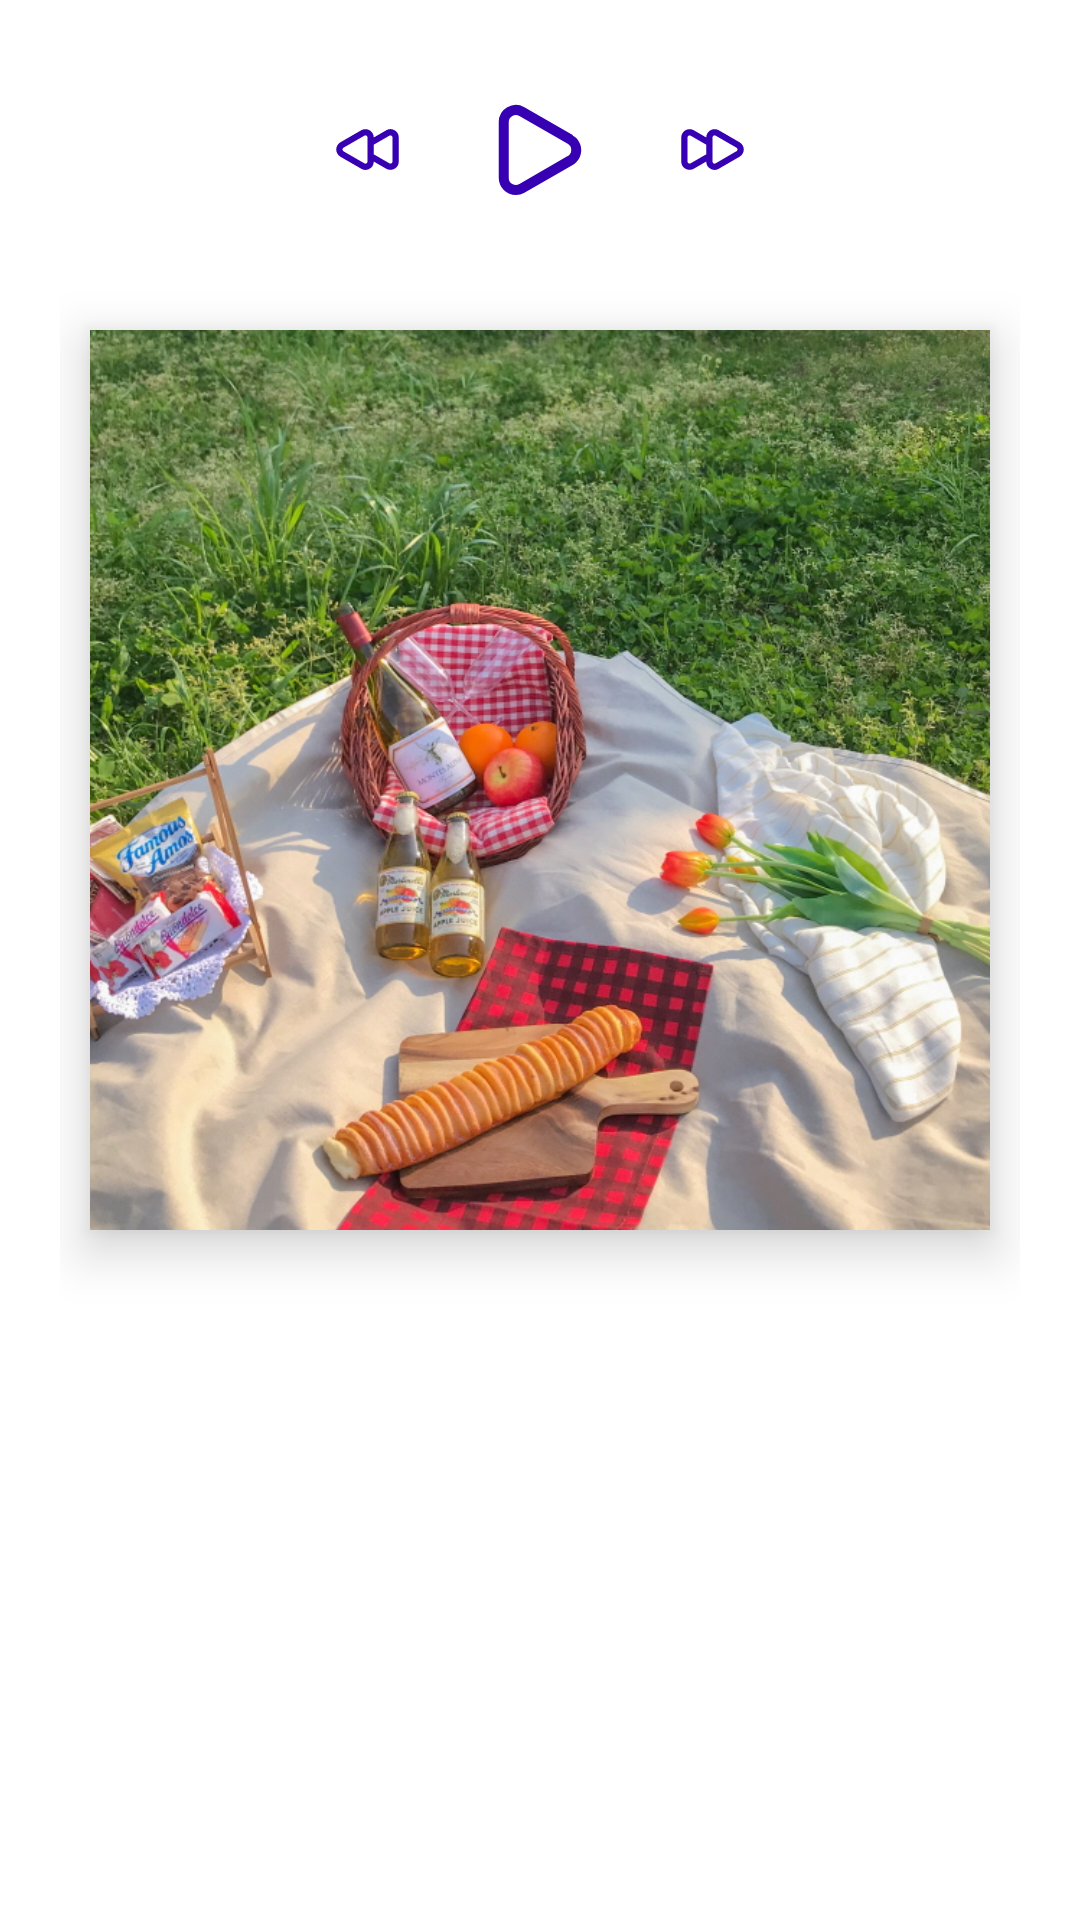

Where to tap for icons on this 1080px x 1920px app screen, as (x,y):
backward: (367,149)
forward: (712,149)
play: (540,149)
